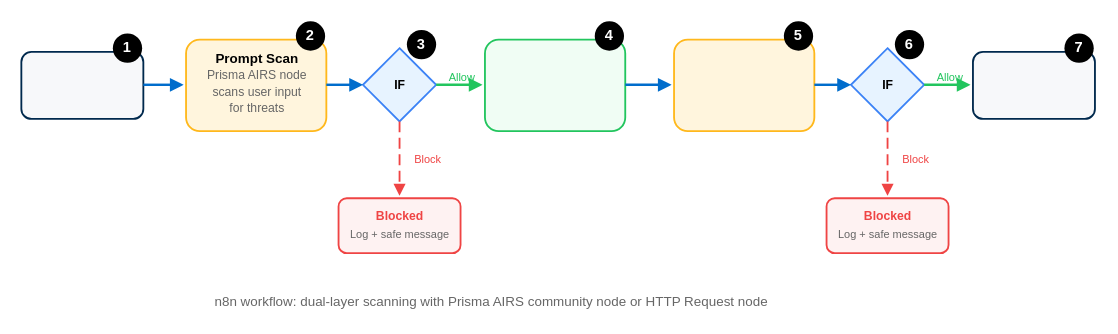
Image size: 1118x334. Some labels were removed from this diagram. The shapes that lost their labels are listed below. From the top down, each one's centre as x and y in pixels, then its label:
(x=82, y=84): Trigger Chat message or webhook
(x=554, y=85): AI Model OpenAI / Anthropic Google Vertex Ollama / etc.
(x=744, y=85): Response Scan Prisma AIRS node scans AI output for threats
(x=1033, y=84): Deliver Response returned to user
